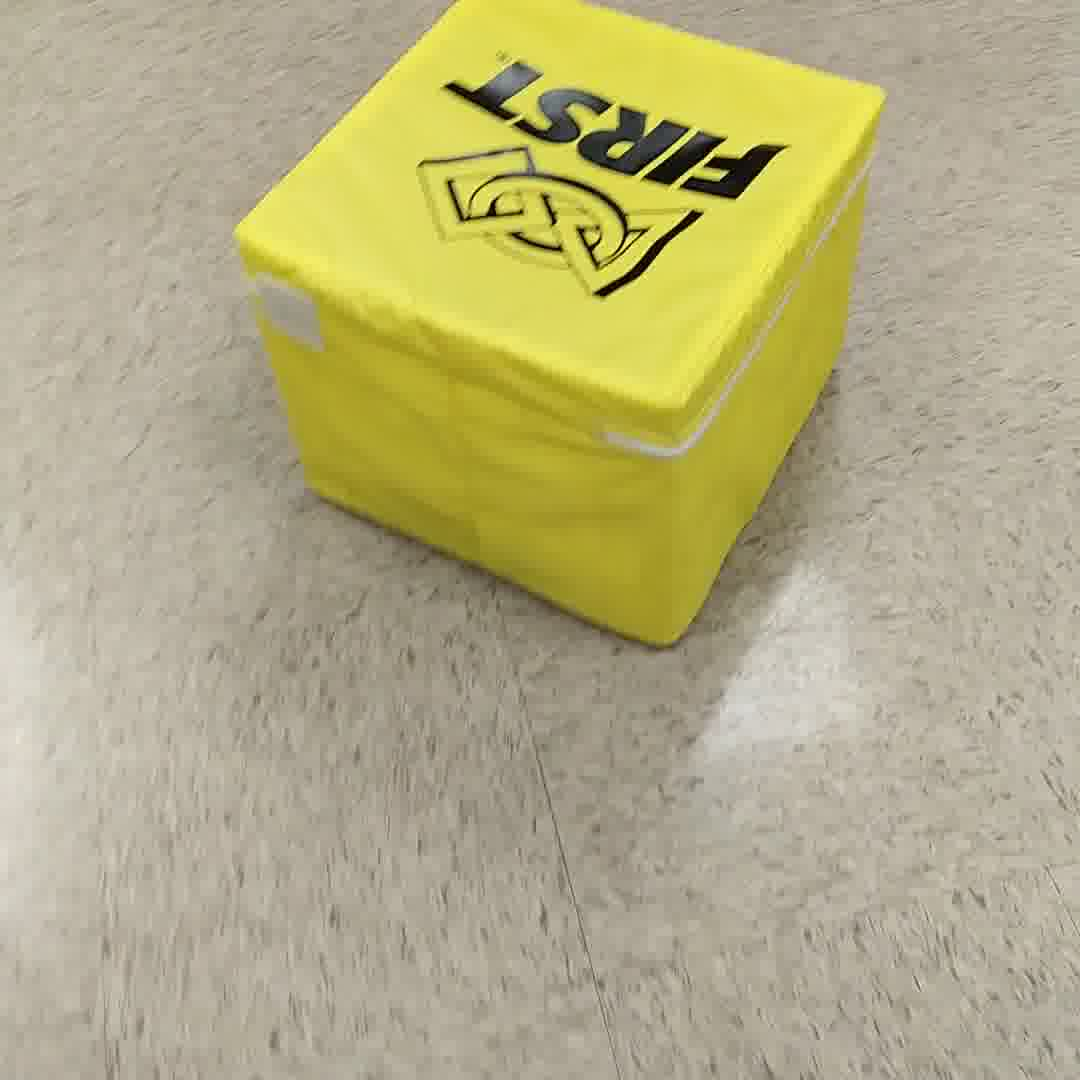box: (213, 8, 911, 655)
